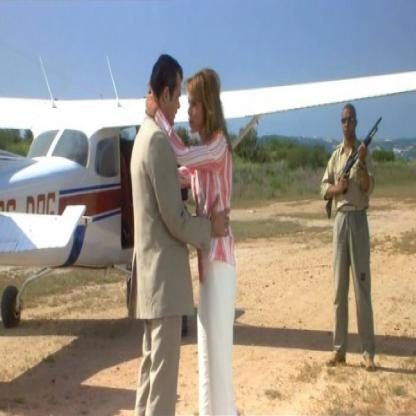Guns: (334, 110, 383, 197)
